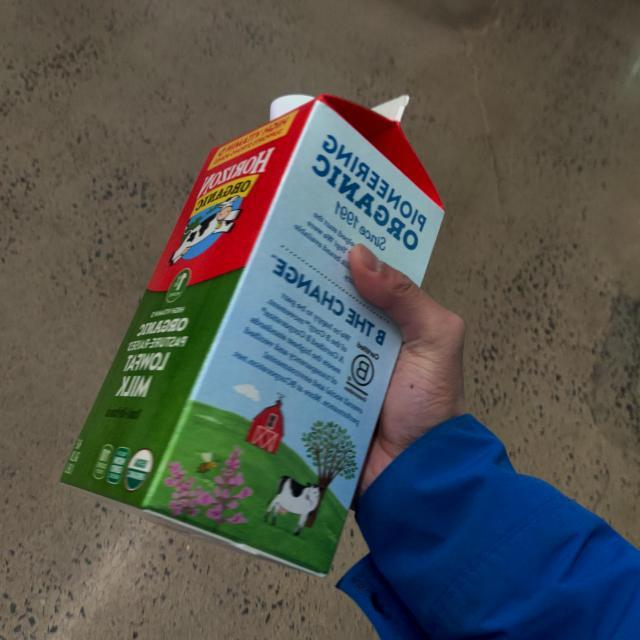Milk: (39, 44, 468, 584)
